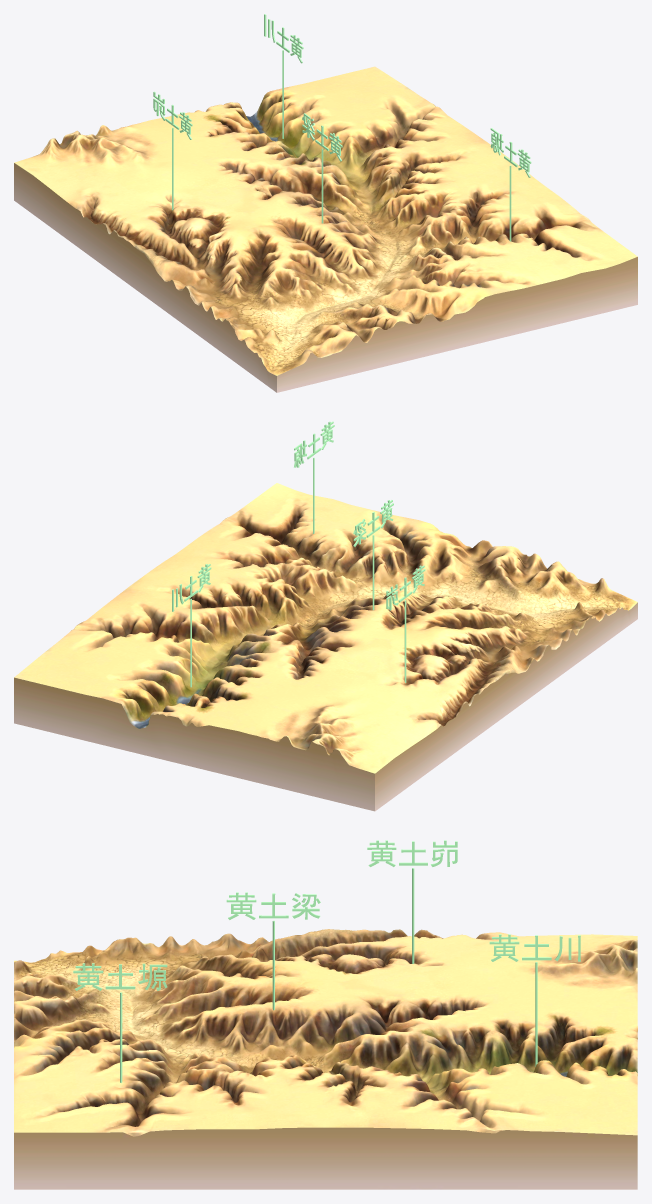
File: htgy_06.gltf
3 views of the same model, one above another, from view 1: azimuth 30°, elevation 25°; view 2: azimuth 150°, elevation 25°; view 3: azimuth 270°, elevation 25° (orthographic). The views are drawn at different scales.
Parts seen in each view (by area): view 1: main, line, font3, font2, font1, font4; view 2: main, line, font3, font1, font2; view 3: main, font3, font2, line, font1, font4.
Part boxes in pixels (left/top/right/bottom): main: left=14, top=66, right=637, bottom=392; line: left=172, top=50, right=511, bottom=241; font3: left=490, top=128, right=531, bottom=177; font2: left=302, top=113, right=342, bottom=161; font1: left=153, top=91, right=192, bottom=139; font4: left=264, top=14, right=303, bottom=63; main: left=14, top=483, right=637, bottom=811; line: left=190, top=457, right=406, bottom=687; font3: left=294, top=421, right=334, bottom=467; font1: left=386, top=565, right=425, bottom=610; font2: left=353, top=500, right=393, bottom=546; main: left=14, top=929, right=637, bottom=1189; font3: left=73, top=963, right=167, bottom=990; font2: left=226, top=892, right=320, bottom=919; line: left=120, top=868, right=537, bottom=1082; font1: left=367, top=840, right=457, bottom=866; font4: left=489, top=934, right=580, bottom=961.
Bounding box in the file's own units: 59.83 × 23.75 × 75.21.
Materials: 2 (1 with a texture image).
